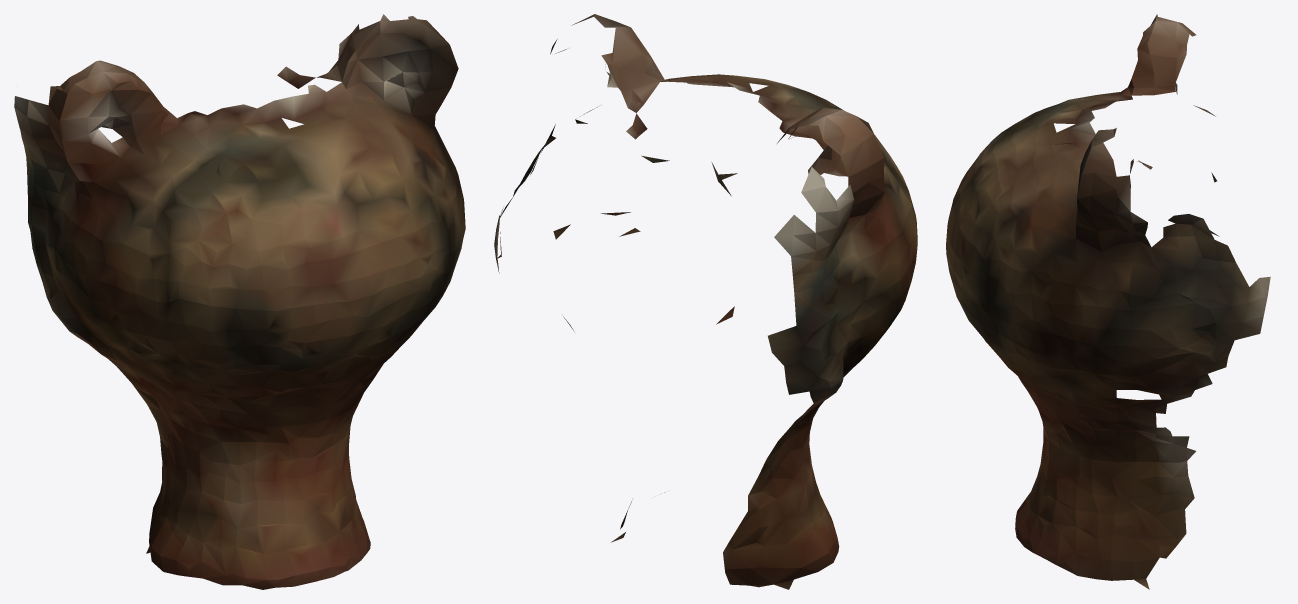
Rendered from minoan-vase.gltf.
3 views of the same model, side by side, from view 1: azimuth 30°, elevation 25°; view 2: azimuth 150°, elevation 25°; view 3: azimuth 270°, elevation 25° (orthographic). The views are drawn at different scales.
Parts seen in each view (by area): view 1: minoan-vase; view 2: minoan-vase; view 3: minoan-vase.
Boxes of the visible parts, box(x1,y1,x2,y2) form: minoan-vase: box(14, 14, 465, 589); minoan-vase: box(494, 14, 917, 589); minoan-vase: box(946, 14, 1270, 589).
Bounding box in the file's own units: 0.0679 × 0.09 × 0.0585.
